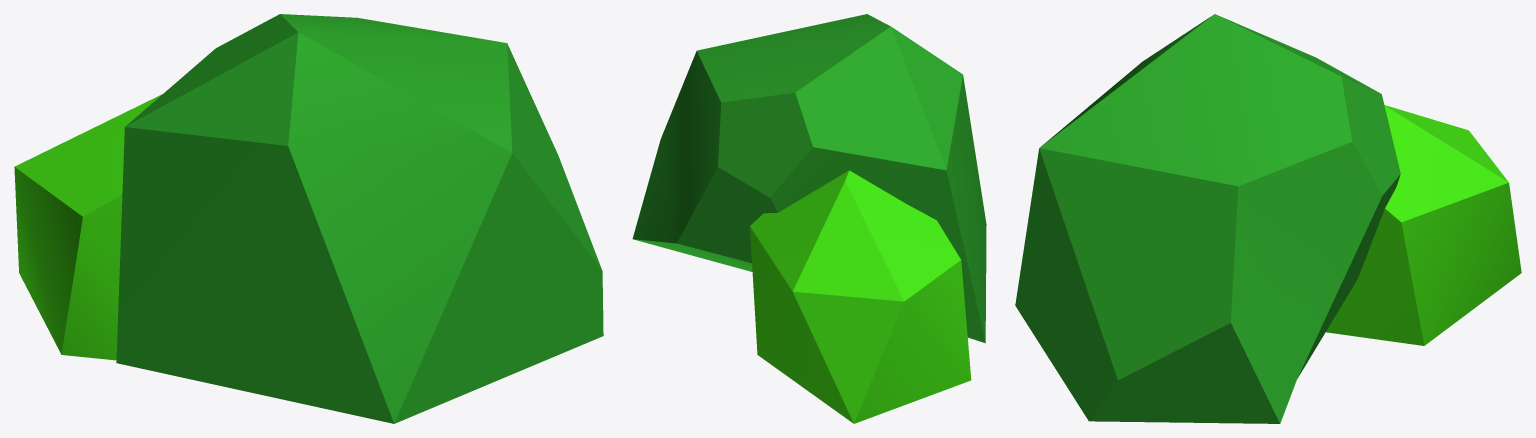
The model's file is Bush2.fbx.
3 views of the same model, side by side, from view 1: azimuth 30°, elevation 25°; view 2: azimuth 150°, elevation 25°; view 3: azimuth 270°, elevation 25° (orthographic). The views are drawn at different scales.
Parts seen in each view (by area): view 1: Icosphere, Icosphere.001; view 2: Icosphere, Icosphere.001; view 3: Icosphere, Icosphere.001.
Boxes of the visible parts, x1,y1,x2,y2 form: Icosphere: (116,14,603,423); Icosphere.001: (14,94,162,360); Icosphere: (632,14,986,343); Icosphere.001: (750,170,971,423); Icosphere: (1015,14,1400,423); Icosphere.001: (1326,105,1521,345).
Bounding box in the file's own units: 2.66 × 2.02 × 2.78.
